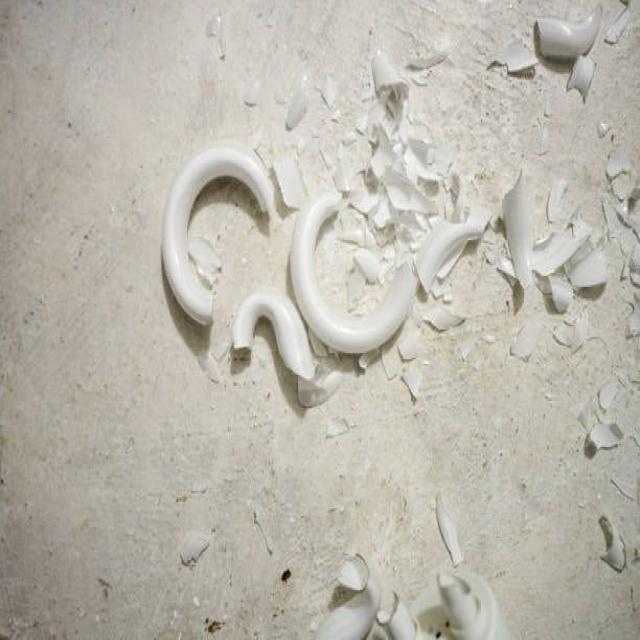electronic: (160, 45, 603, 408), (312, 492, 509, 638), (160, 141, 278, 326), (289, 188, 418, 353), (381, 563, 508, 639), (312, 550, 381, 638), (534, 2, 602, 62)
